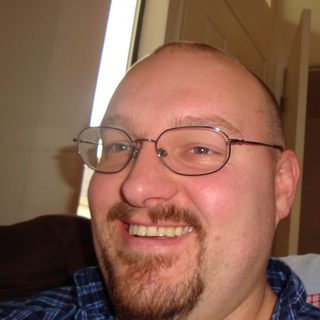eye: (171, 138, 226, 166), (96, 135, 143, 167)
